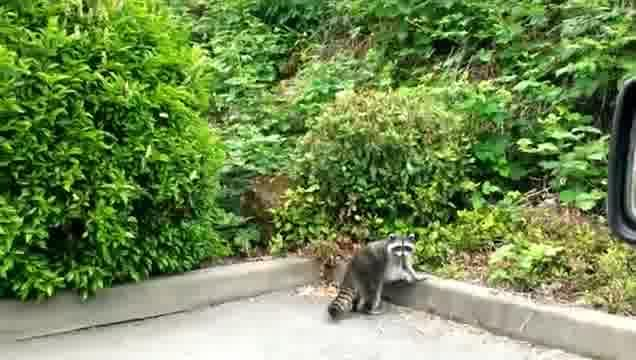raccoon: (321, 231, 435, 320)
